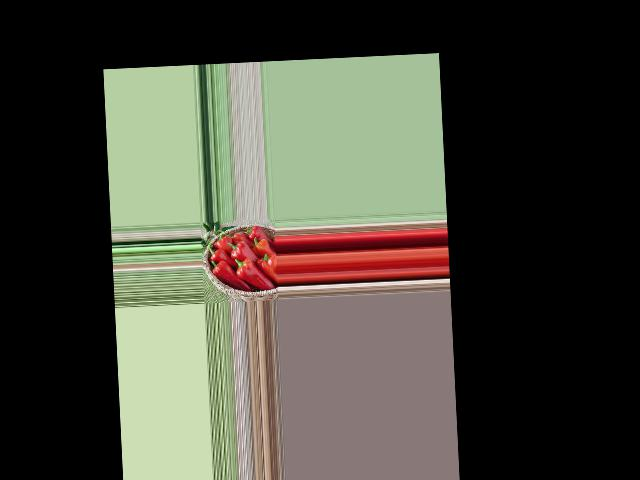bell_pepper: (206, 246, 228, 263)
